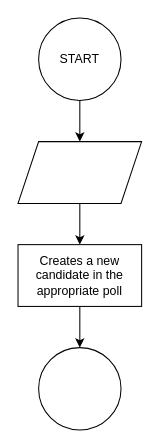
Some shapes in this 160 by 448 pixel diagram are drawn without their labels. Each missing label, with the centre of its shape:
"END" goes at [79,388].
"Gives his info, poll ID" goes at [79,172].
